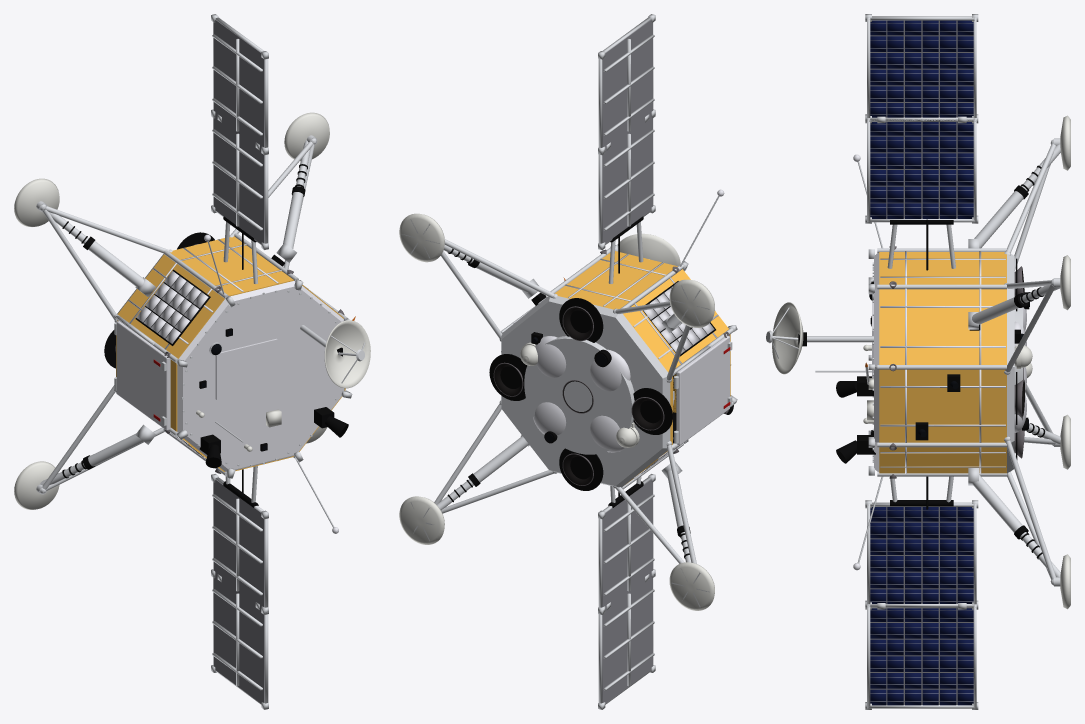
Rendered from lander_B.obj.
3 renders of one model, left to right at view 1: azimuth 30°, elevation 25°; view 2: azimuth 150°, elevation 25°; view 3: azimuth 270°, elevation 25°, orthographic. The views are drawn at different scales.
Parts seen in each view (by area): view 1: top_radiator, deck_body, wing_port_panel2_substrate, wing_starboard_panel1_substrate, wing_starboard_panel2_substrate, wing_port_panel1_substrate, ramp_panel, radiator_fins, radiator_osr_tiles, antenna_dish, corner_longerons, leg1_footpad (+20 smaller); view 2: bottom_deck, interface_ring, deck_body, underside_heat_shields, wing_port_panel2_substrate, wing_starboard_panel2_substrate, wing_port_panel1_substrate, ramp_panel, wing_starboard_panel1_substrate, leg1_footpad, leg0_footpad, leg3_footpad (+25 smaller); view 3: deck_body, wing_port_panel1_cells, wing_starboard_panel2_cells, wing_port_panel2_cells, wing_starboard_panel1_cells, corner_longerons, mli_seams_tape, wing_port_panel1_substrate, wing_starboard_panel1_substrate, wing_port_panel2_substrate, wing_starboard_panel2_substrate, wing_starboard_panel2_frame (+22 smaller).
Boxes of the visible parts, x1=… form: top_radiator: x1=177, y1=281, x2=344, y2=471; deck_body: x1=116, y1=236, x2=345, y2=471; wing_port_panel2_substrate: x1=213, y1=19, x2=264, y2=148; wing_starboard_panel1_substrate: x1=213, y1=479, x2=264, y2=608; wing_starboard_panel2_substrate: x1=213, y1=575, x2=264, y2=703; wing_port_panel1_substrate: x1=213, y1=115, x2=264, y2=243; ramp_panel: x1=116, y1=321, x2=170, y2=430; radiator_fins: x1=215, y1=338, x2=277, y2=399; radiator_osr_tiles: x1=136, y1=271, x2=208, y2=459; antenna_dish: x1=324, y1=320, x2=370, y2=388; corner_longerons: x1=114, y1=233, x2=352, y2=478; leg1_footpad: x1=14, y1=178, x2=59, y2=227; bottom_deck: x1=501, y1=296, x2=670, y2=487; interface_ring: x1=524, y1=336, x2=634, y2=454; deck_body: x1=554, y1=251, x2=730, y2=484; underside_heat_shields: x1=489, y1=298, x2=672, y2=490; wing_port_panel2_substrate: x1=602, y1=19, x2=652, y2=148; wing_starboard_panel2_substrate: x1=602, y1=574, x2=652, y2=703; wing_port_panel1_substrate: x1=602, y1=115, x2=652, y2=243; ramp_panel: x1=676, y1=336, x2=729, y2=445; wing_starboard_panel1_substrate: x1=602, y1=479, x2=652, y2=608; leg1_footpad: x1=669, y1=279, x2=714, y2=327; leg0_footpad: x1=399, y1=213, x2=444, y2=262; leg3_footpad: x1=399, y1=496, x2=444, y2=544; deck_body: x1=879, y1=252, x2=1006, y2=473; wing_port_panel1_cells: x1=870, y1=122, x2=973, y2=218; wing_starboard_panel2_cells: x1=870, y1=608, x2=973, y2=705; wing_port_panel2_cells: x1=870, y1=20, x2=973, y2=117; wing_starboard_panel1_cells: x1=870, y1=507, x2=973, y2=603; corner_longerons: x1=868, y1=248, x2=1006, y2=476; mli_seams_tape: x1=880, y1=251, x2=1005, y2=473; wing_port_panel1_substrate: x1=870, y1=122, x2=973, y2=218; wing_starboard_panel1_substrate: x1=870, y1=507, x2=973, y2=603; wing_port_panel2_substrate: x1=870, y1=20, x2=973, y2=117; wing_starboard_panel2_substrate: x1=870, y1=608, x2=973, y2=704; wing_starboard_panel2_frame: x1=865, y1=600, x2=978, y2=709.
Bounding box in the file's own units: 3.62 × 7.19 × 2.86.
